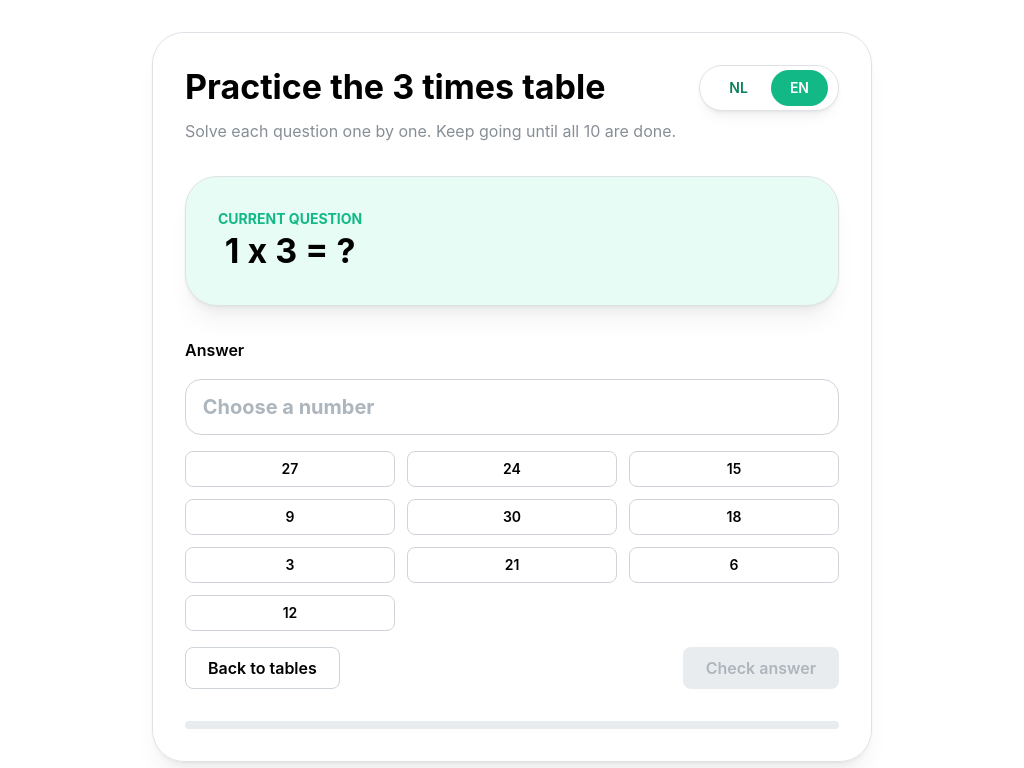
Test: GIVEN I have selected an incorrect answer, WHEN I press Check answer, THEN the selected answer resets so I can try again
What coordinates should you click on to do the following:
click the button "6"
I would click on:
 (734, 565)
Its box is [629, 547, 839, 583].
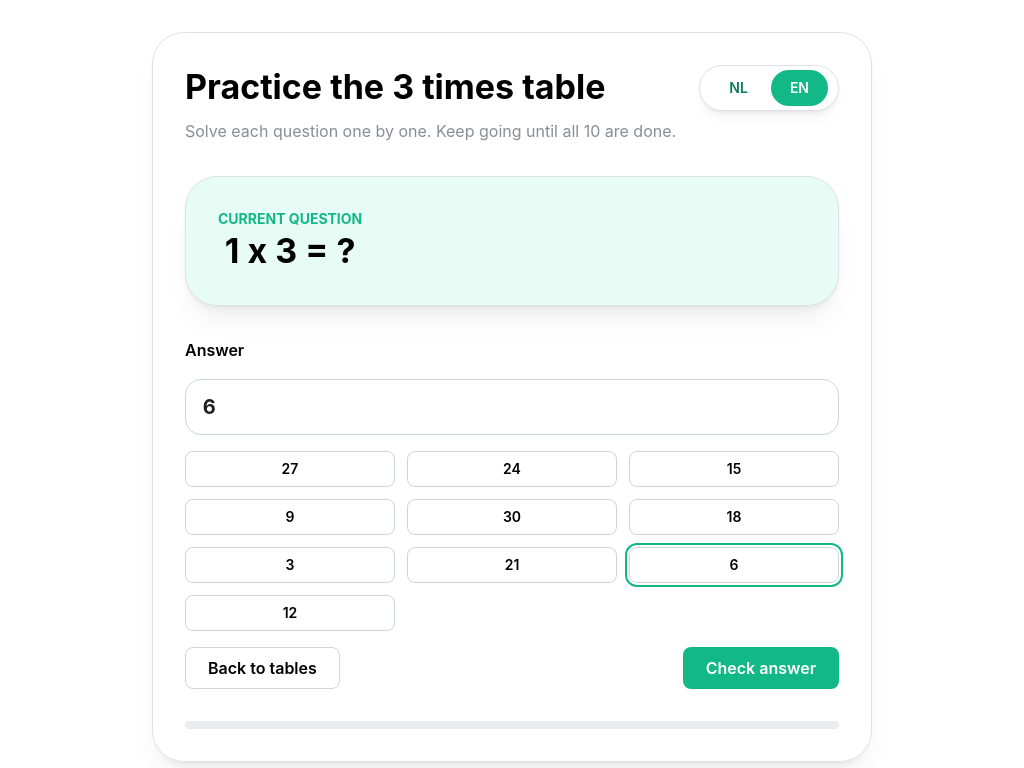
What coordinates should you click on to do the following:
click the button "Check answer"
I would click on:
 (761, 668)
Its box is [683, 647, 839, 689].
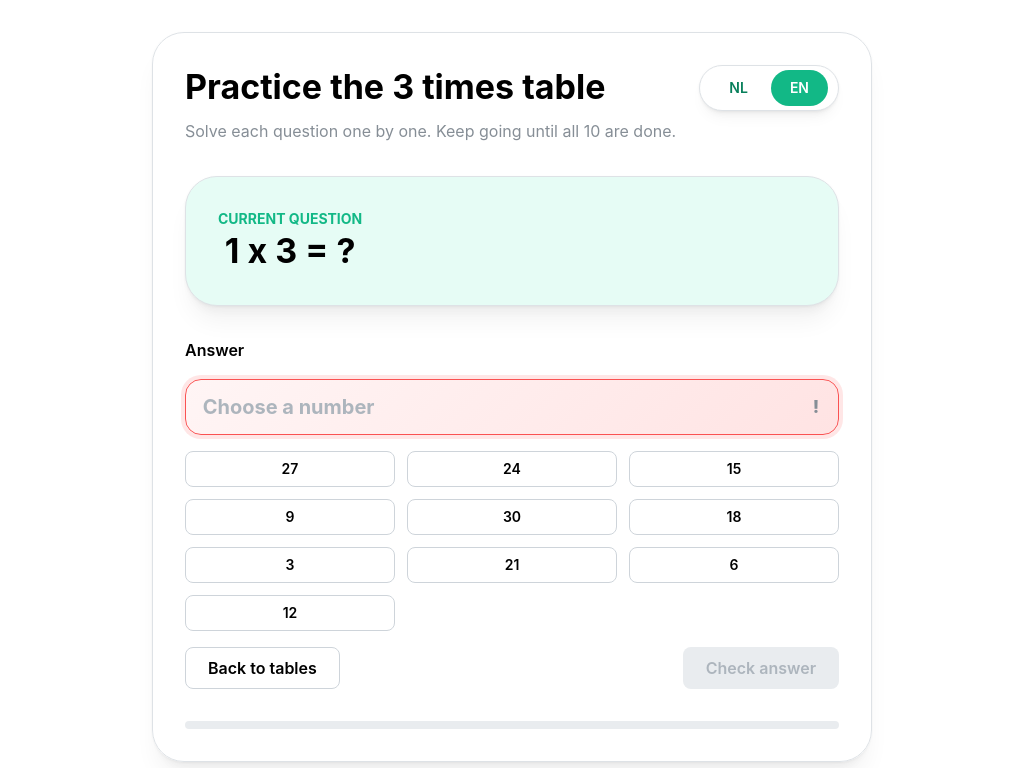
Expected: the field is empty, [185, 379, 839, 435]
Expected: the button "Check answer" is disabled, [683, 647, 839, 689]
